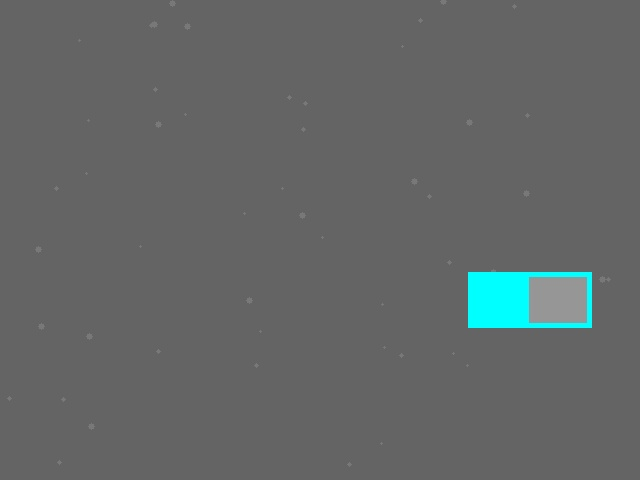truck: (468, 272, 591, 327)
